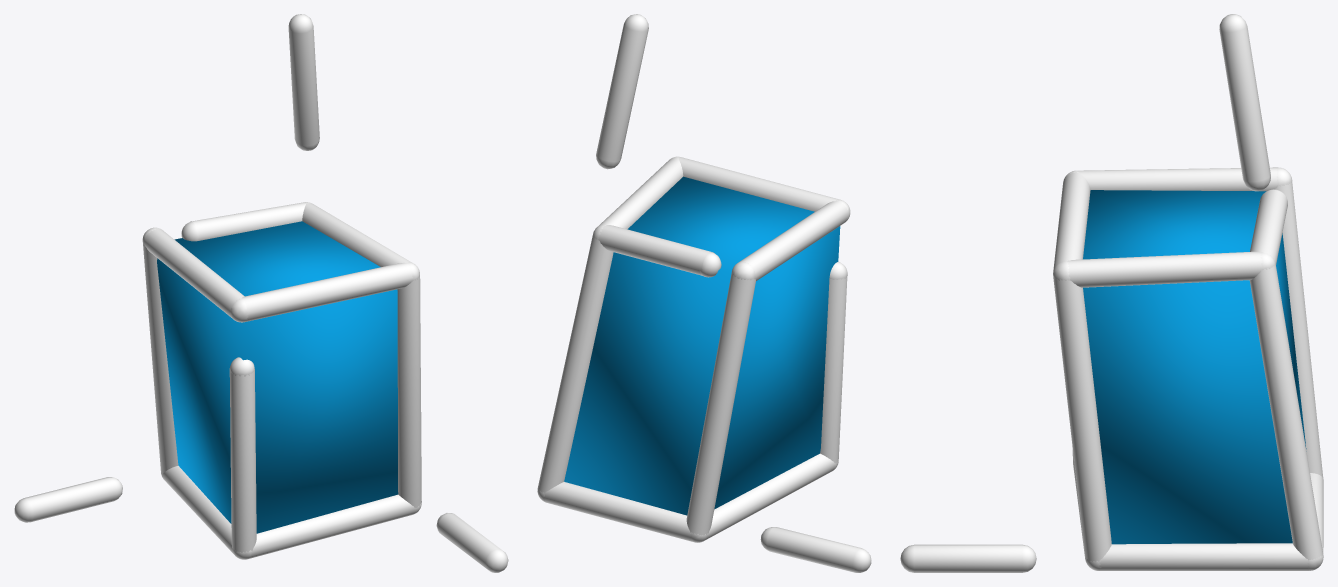
File: kompakkt.glb
3 views of the same model, side by side, from view 1: azimuth 30°, elevation 25°; view 2: azimuth 150°, elevation 25°; view 3: azimuth 270°, elevation 25° (orthographic). The views are drawn at different scales.
Parts seen in each view (by area): view 1: OilTank001.001; view 2: OilTank001.001; view 3: OilTank001.001.
Part boxes in pixels (x1,y1,x2,y2): OilTank001.001: (14,14,508,572); OilTank001.001: (537,14,871,572); OilTank001.001: (900,14,1323,572).
Size of the model in its own units: 44.53 by 61.9 by 44.8.
